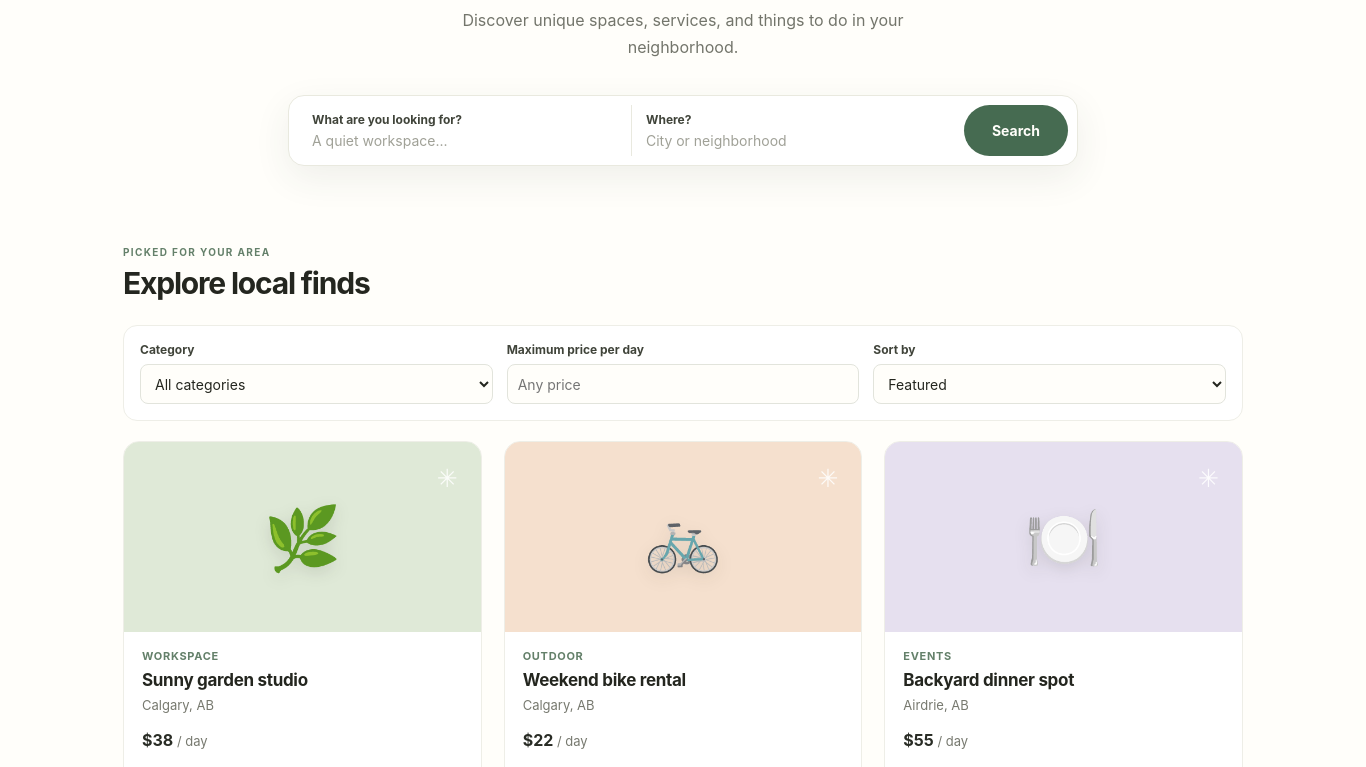
Test: NicheFlow landing page › filters by category and maximum price
(page scrolled)
Select "Outdoor" in the dropdown labelled "Category" at {"x": 316, "y": 384}, box [140,364,493,404]
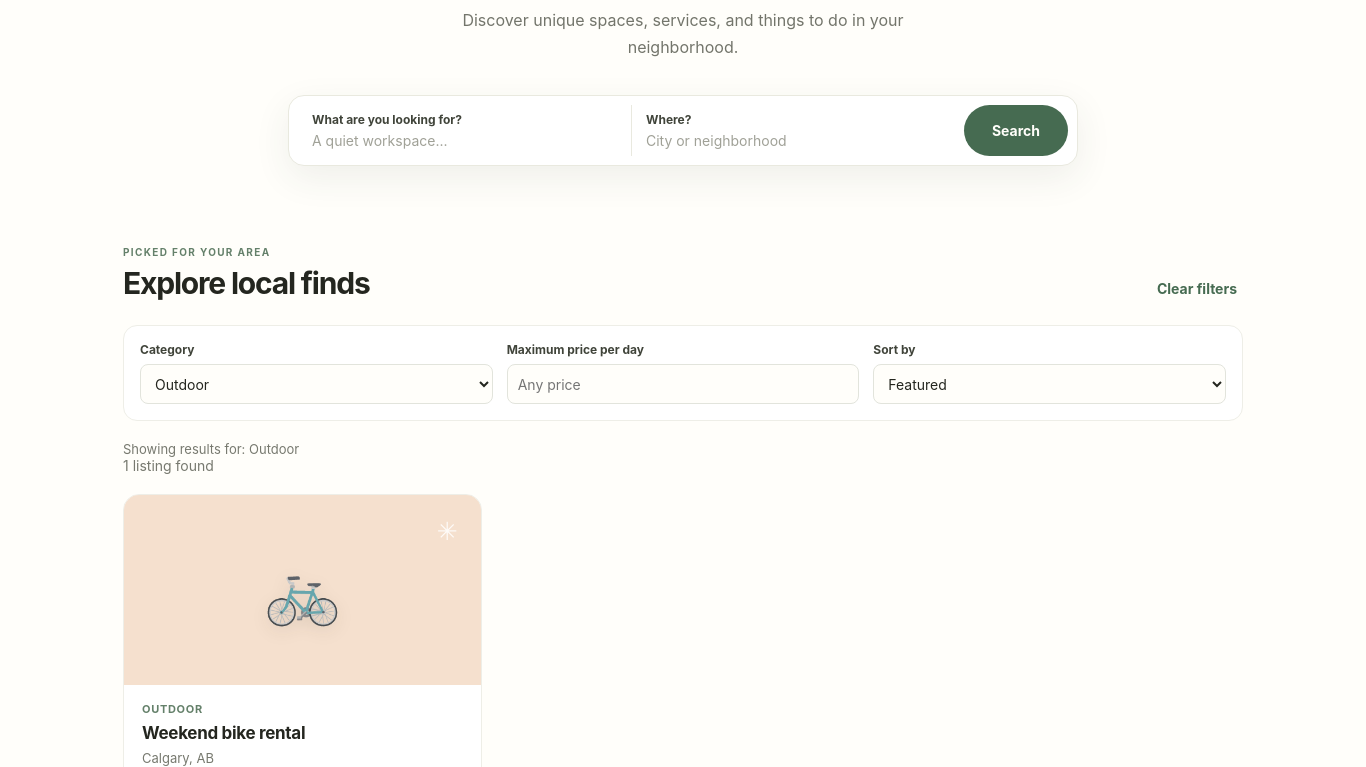
Type "30" into the number field labelled "Maximum price per day" at {"x": 683, "y": 384}, box [507,364,859,404]
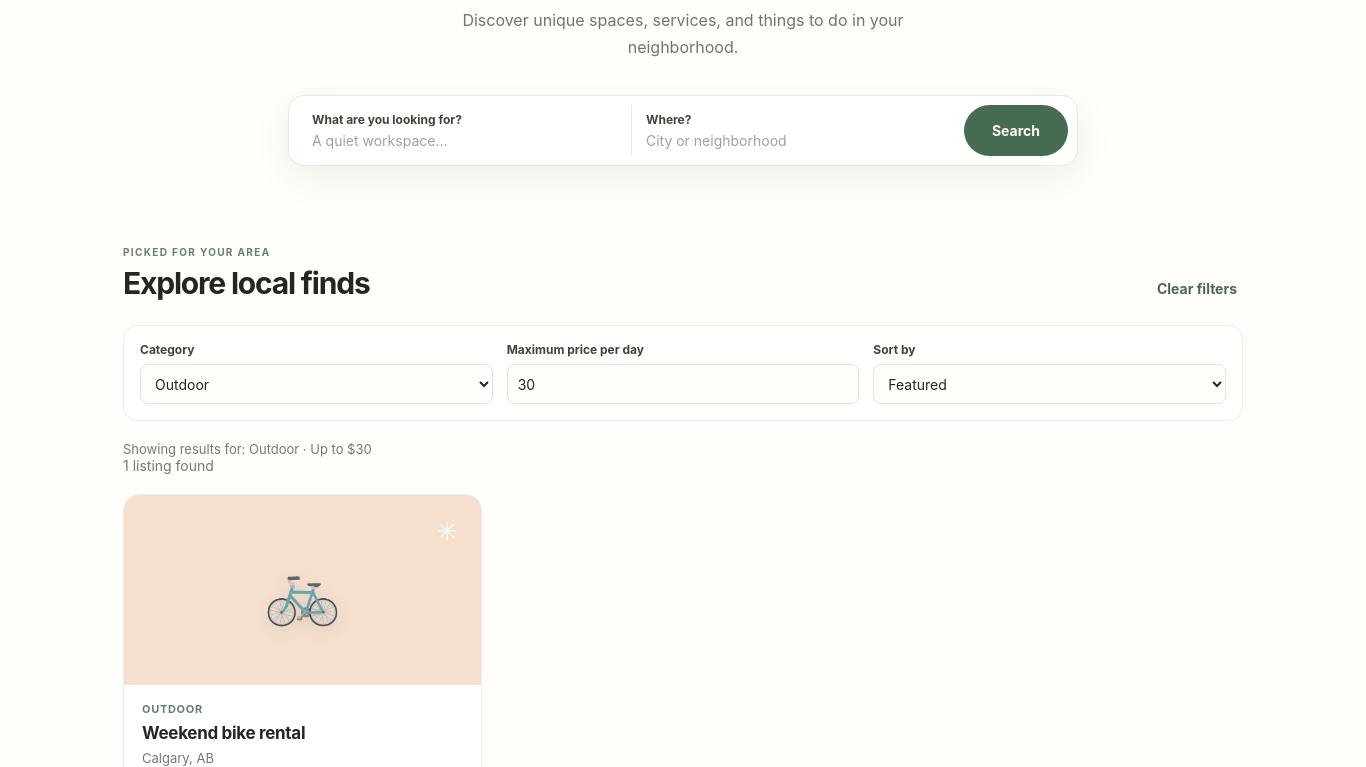
expect the heading "Weekend bike rental" is shown: met, box [142,723,305,743]
expect the text "Showing results for: Outdoor · Up to $30" is shown: met, box [123,441,372,457]
